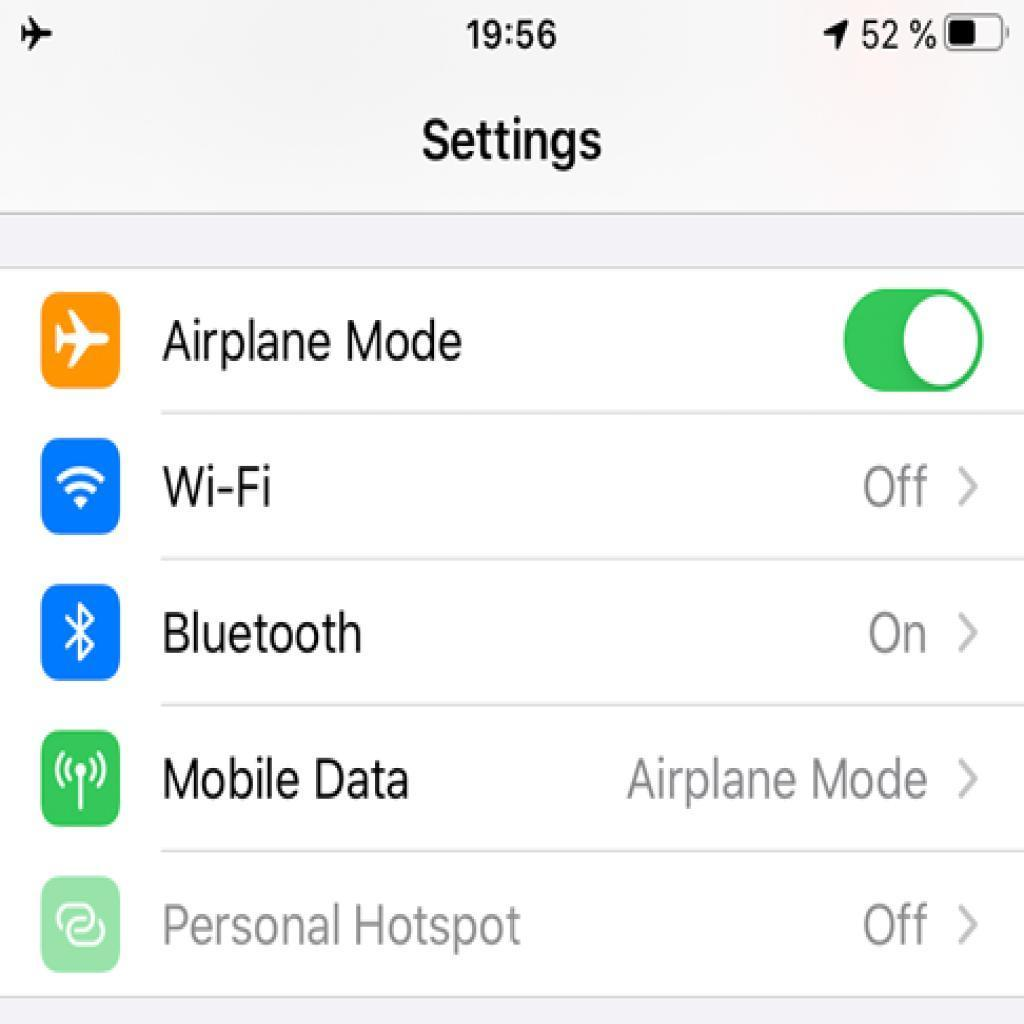icon: (40, 731, 126, 828), (41, 876, 123, 975), (40, 586, 124, 682), (41, 439, 123, 536), (41, 294, 122, 390), (951, 462, 986, 514), (952, 755, 982, 809), (955, 900, 981, 954), (955, 610, 980, 659)
switch: (844, 290, 984, 395)
